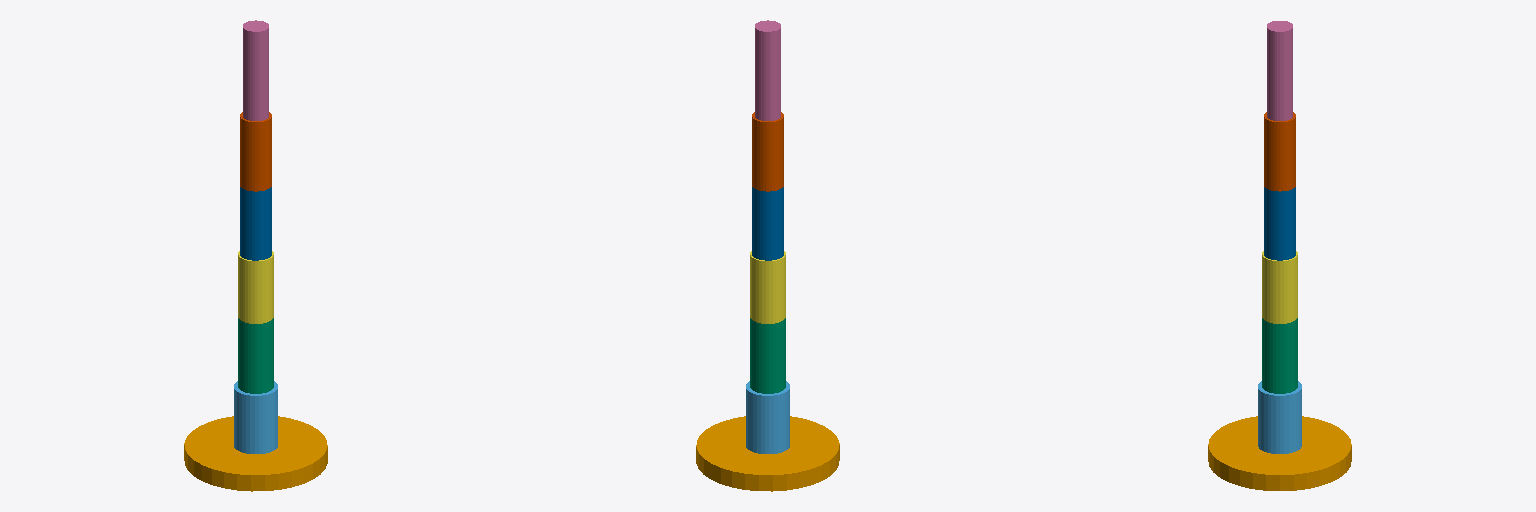
URDF robot description (Dexter_ER2):
<?xml version="1.0"?>
<robot name="Dexter_ER2">

  <!-- ================= BASE ================= -->
  <link name="base_link">
    <visual>
      <geometry>
        <cylinder length="0.02" radius="0.08"/>
      </geometry>
    </visual>
  </link>

  <!-- ================= LINK 1 ================= -->
  <link name="link1">
    <visual>
      <geometry>
        <cylinder length="0.082" radius="0.025"/>
      </geometry>
      <origin xyz="0 0 0.041"/>
    </visual>
  </link>

  <joint name="joint1" type="revolute">
    <parent link="base_link"/>
    <child link="link1"/>
    <origin xyz="0 0 0"/>
    <axis xyz="0 0 1"/>
    <limit lower="-3.14" upper="3.14" effort="10" velocity="1"/>
  </joint>


  <!-- ================= LINK 2 ================= -->
  <link name="link2">
    <visual>
      <geometry>
        <cylinder length="0.086" radius="0.02"/>
      </geometry>
      <origin xyz="0 0 0.043"/>
    </visual>
  </link>

  <joint name="joint2" type="revolute">
    <parent link="link1"/>
    <child link="link2"/>
    <origin xyz="0 0 0.082"/> <!-- L1 -->
    <axis xyz="1 0 0"/>
    <limit lower="-1.57" upper="1.57" effort="10" velocity="1"/>
  </joint>


  <!-- ================= LINK 3 ================= -->
  <link name="link3">
    <visual>
      <geometry>
        <cylinder length="0.077" radius="0.02"/>
      </geometry>
      <origin xyz="0 0 0.0385"/>
    </visual>
  </link>

  <joint name="joint3" type="revolute">
    <parent link="link2"/>
    <child link="link3"/>
    <origin xyz="0 0 0.086"/> <!-- L2 -->
    <axis xyz="1 0 0"/>
    <limit lower="-1.57" upper="1.57" effort="10" velocity="1"/>
  </joint>


  <!-- ================= LINK 4 ================= -->
  <link name="link4">
    <visual>
      <geometry>
        <cylinder length="0.085" radius="0.018"/>
      </geometry>
      <origin xyz="0 0 0.0425"/>
    </visual>
  </link>

  <joint name="joint4" type="revolute">
    <parent link="link3"/>
    <child link="link4"/>
    <origin xyz="0 0 0.077"/> <!-- L3 -->
    <axis xyz="1 0 0"/>
    <limit lower="-3.14" upper="3.14" effort="5" velocity="1"/>
  </joint>


  <!-- ================= LINK 5 ================= -->
  <link name="link5">
    <visual>
      <geometry>
        <cylinder length="0.085" radius="0.018"/>
      </geometry>
      <origin xyz="0 0 0.0425"/>
    </visual>
  </link>

  <joint name="joint5" type="revolute">
    <parent link="link4"/>
    <child link="link5"/>
    <origin xyz="0 0 0.085"/> <!-- L4 -->
    <axis xyz="0 0 1"/>
    <limit lower="-3.14" upper="3.14" effort="5" velocity="1"/>
  </joint>


  <!-- ================= END EFFECTOR ================= -->
  <link name="ee_link">
    <visual>
      <geometry>
        <cylinder length="0.11" radius="0.015"/>
      </geometry>
      <origin xyz="0 0 0.055"/>
    </visual>
  </link>

  <joint name="ee_fixed" type="fixed">
    <parent link="link5"/>
    <child link="ee_link"/>
    <origin xyz="0 0 0.085"/> <!-- L6 -->
  </joint>

</robot>

--- Facts derived from the render (not from the file) ---
Views: 3 orthographic renders of the robot side by side, from view 1: azimuth 30°, elevation 25°; view 2: azimuth 150°, elevation 25°; view 3: azimuth 270°, elevation 25°.
Robot: Dexter_ER2 — 7 links, 6 joints (5 revolute, 1 fixed); root link base_link; default pose: all joints at 0.
Links seen in each view (by area): view 1: base_link, link1, ee_link, link2, link3, link5, link4; view 2: base_link, link1, ee_link, link2, link3, link5, link4; view 3: base_link, link1, ee_link, link2, link3, link5, link4.
Link boxes in pixels (left/top/right/bottom): base_link: left=184, top=416, right=327, bottom=491; link1: left=234, top=381, right=277, bottom=453; ee_link: left=243, top=20, right=268, bottom=120; link2: left=238, top=318, right=273, bottom=393; link3: left=238, top=251, right=273, bottom=323; link5: left=240, top=112, right=271, bottom=191; link4: left=240, top=187, right=271, bottom=260; base_link: left=696, top=416, right=839, bottom=491; link1: left=746, top=381, right=789, bottom=453; ee_link: left=755, top=20, right=780, bottom=120; link2: left=750, top=318, right=785, bottom=393; link3: left=750, top=251, right=785, bottom=323; link5: left=752, top=112, right=783, bottom=191; link4: left=752, top=187, right=783, bottom=260; base_link: left=1208, top=416, right=1351, bottom=490; link1: left=1258, top=381, right=1301, bottom=453; ee_link: left=1267, top=21, right=1292, bottom=120; link2: left=1262, top=318, right=1297, bottom=393; link3: left=1262, top=251, right=1297, bottom=323; link5: left=1264, top=112, right=1295, bottom=191; link4: left=1264, top=187, right=1295, bottom=260.
Size in the robot's own frame: 0.16 by 0.16 by 0.535 metres.
Geometry: primitives only (box / cylinder / sphere), no mesh files.
